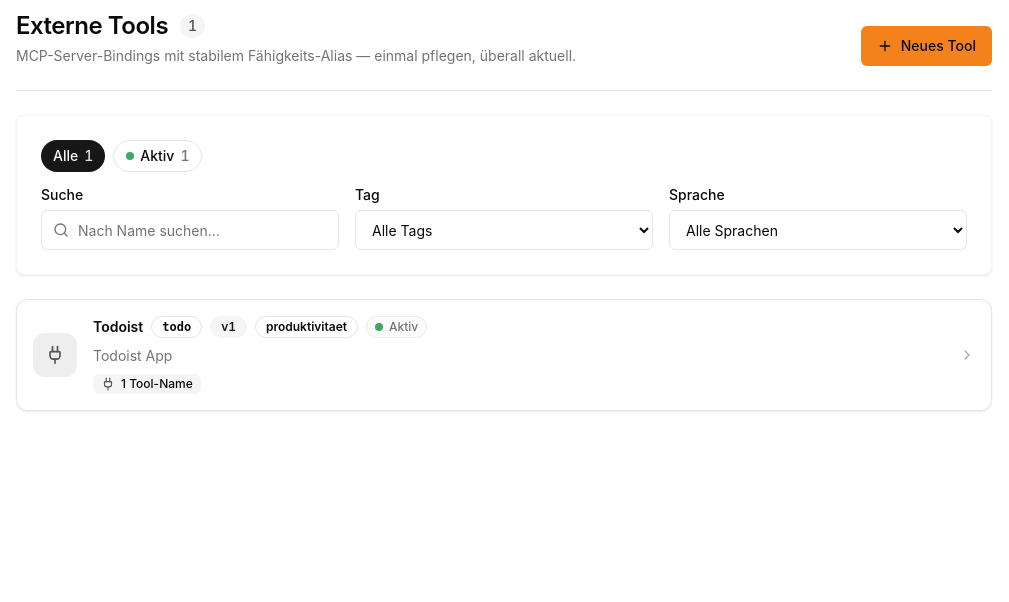
Test: ToolsPage › zeigt den Filter-Empty-State bei erfolgloser Suche und setzt via Reset zurueck
Expected: the link "Todoist" is shown, [93, 317, 143, 337]
Type "gibt-es-nicht" into the field labelled "Suche". click: (190,230)
box: [41, 210, 339, 250]
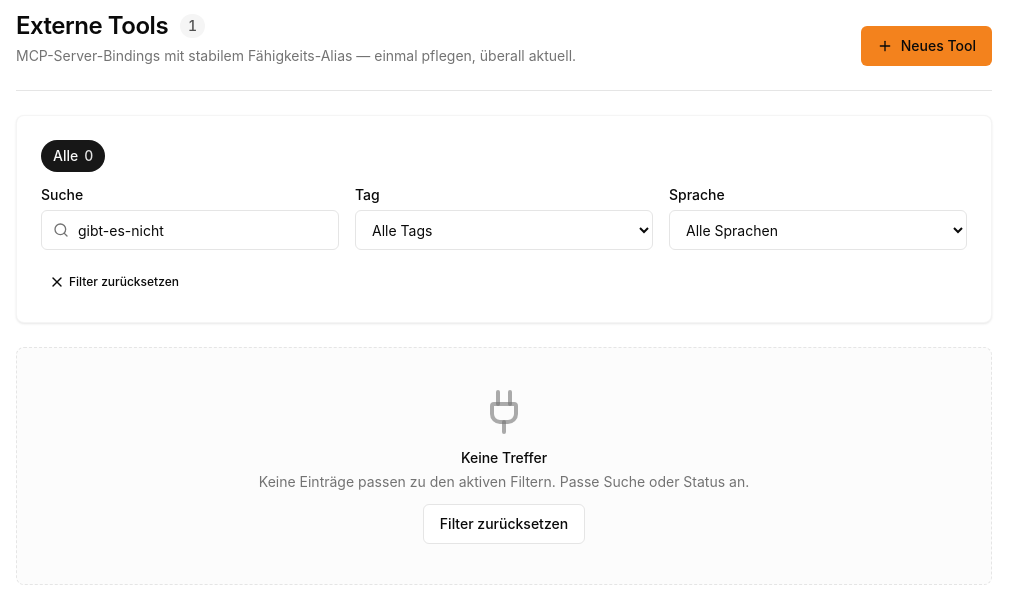
Expected: the text "Keine Treffer" is shown, [461, 449, 547, 466]
Expected: the link "Todoist" is gone
Click the button "Filter zurücksetzen" below "Tag". click: (114,282)
box: [41, 266, 187, 298]
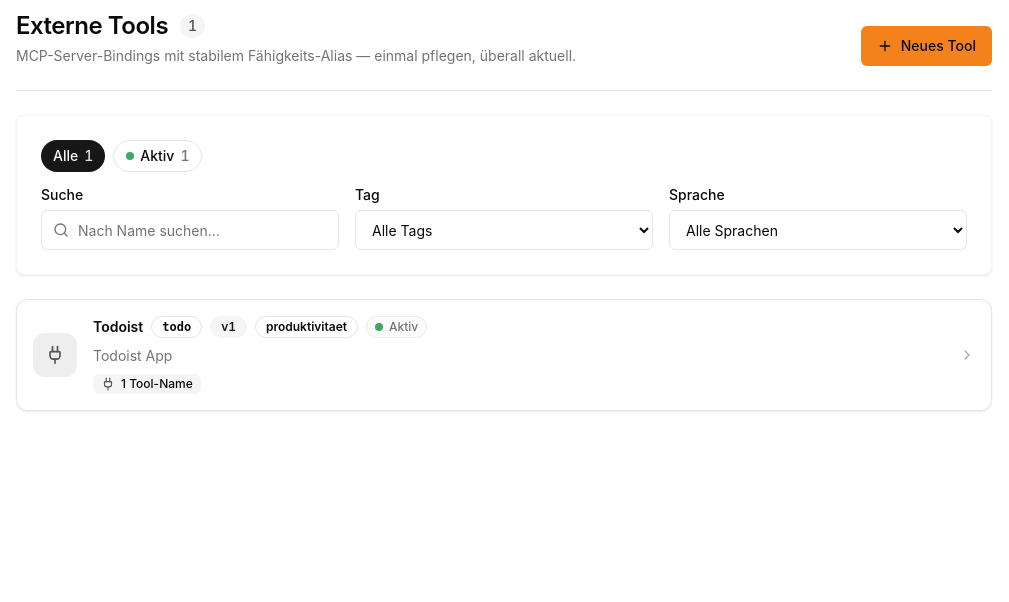
Expected: the link "Todoist" is shown, [93, 317, 143, 337]
